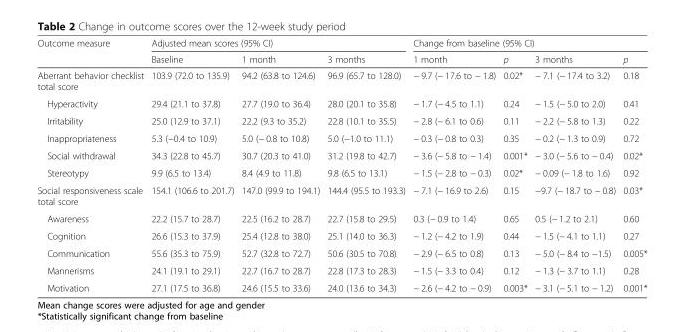table: (36, 37, 646, 292)
table column: (36, 37, 146, 292), (146, 37, 237, 292), (408, 37, 498, 292), (530, 37, 618, 292), (322, 37, 408, 292), (237, 37, 322, 292), (498, 37, 530, 292), (618, 37, 646, 292)
table column header: (36, 37, 646, 66)
table row: (36, 66, 646, 94), (36, 181, 646, 209), (36, 111, 646, 129), (36, 163, 646, 181), (36, 226, 646, 244), (36, 94, 646, 111), (36, 129, 646, 146), (36, 146, 646, 163), (36, 209, 646, 226), (36, 244, 646, 261), (36, 261, 646, 278), (36, 50, 646, 66), (36, 278, 646, 292), (36, 37, 646, 50)
table spanning cell: (146, 37, 408, 50), (36, 37, 146, 66), (408, 37, 646, 50)
